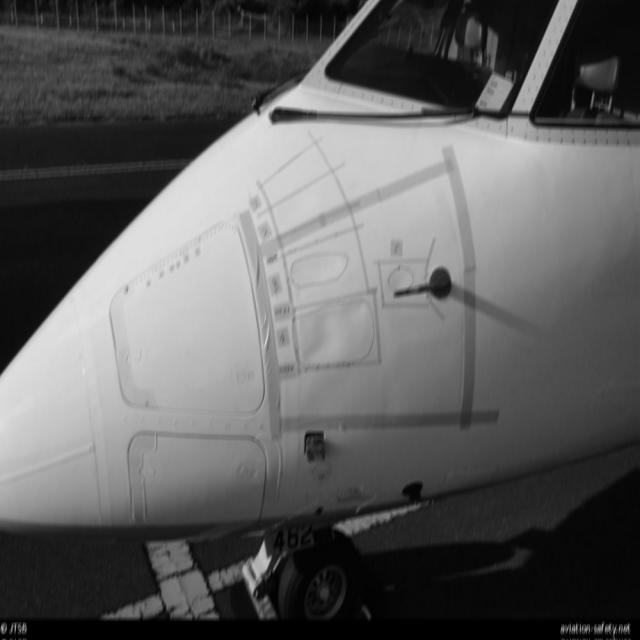dent: (299, 298, 372, 367), (287, 252, 349, 287), (390, 266, 412, 291)
